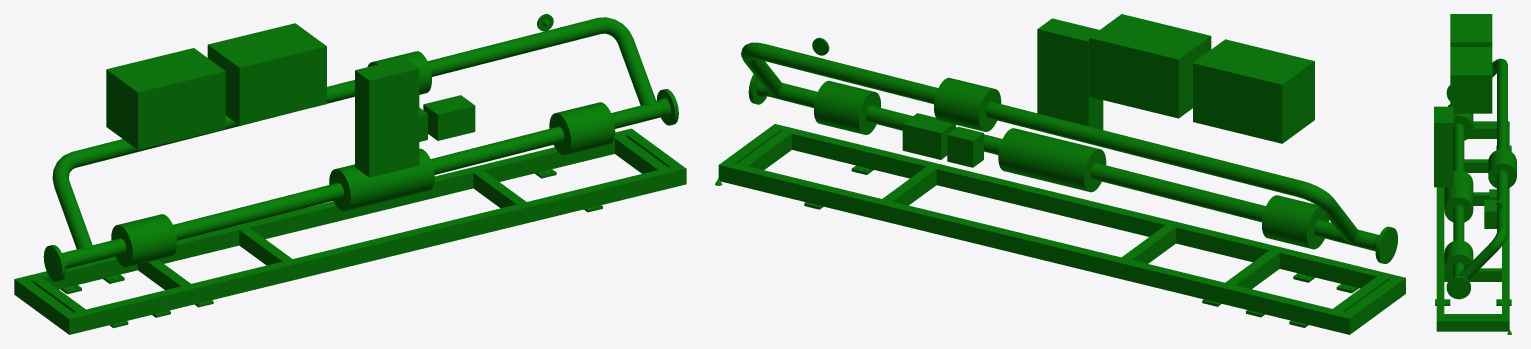
File: Image-1710907682838-2280650084368_45-JX50.fbx
3 renders of one model, left to right at view 1: azimuth 30°, elevation 25°; view 2: azimuth 150°, elevation 25°; view 3: azimuth 270°, elevation 25°, orthographic. The views are drawn at different scales.
Parts seen in each view (by area): view 1: BOX 12 of SUBEQUIPMENT /45-JX50/SKID-FRAME, BOX 1 of SUBEQUIPMENT /45-JX50/INSTR_CAGES, BOX 2 of SUBEQUIPMENT /45-JX50/INSTR_CAGES, BOX 13 of SUBEQUIPMENT /45-JX50/SKID-FRAME, CYLINDER 1 of SUBEQUIPMENT /45-JX50/METERING-LINE, BOX 3 of SUBEQUIPMENT /45-JX50/INSTR_CAGES, CYLINDER 2 of SUBEQUIPMENT /45-JX50/METERING-LINE, CYLINDER 7 of SUBEQUIPMENT /45-JX50/METERING-LINE, CYLINDER 6 of SUBEQUIPMENT /45-JX50/METERING-LINE, CYLINDER 5 of SUBEQUIPMENT /45-JX50/METERING-LINE, BOX 5 of SUBEQUIPMENT /45-JX50/INSTR_CAGES, BOX 7 of SUBEQUIPMENT /45-JX50/SKID-FRAME (+13 smaller); view 2: BOX 13 of SUBEQUIPMENT /45-JX50/SKID-FRAME, BOX 12 of SUBEQUIPMENT /45-JX50/SKID-FRAME, BOX 1 of SUBEQUIPMENT /45-JX50/INSTR_CAGES, BOX 2 of SUBEQUIPMENT /45-JX50/INSTR_CAGES, CYLINDER 2 of SUBEQUIPMENT /45-JX50/METERING-LINE, CYLINDER 1 of SUBEQUIPMENT /45-JX50/METERING-LINE, BOX 3 of SUBEQUIPMENT /45-JX50/INSTR_CAGES, CYLINDER 7 of SUBEQUIPMENT /45-JX50/METERING-LINE, CYLINDER 8 of SUBEQUIPMENT /45-JX50/METERING-LINE, CYLINDER 6 of SUBEQUIPMENT /45-JX50/METERING-LINE, CYLINDER 5 of SUBEQUIPMENT /45-JX50/METERING-LINE, BOX 5 of SUBEQUIPMENT /45-JX50/INSTR_CAGES (+12 smaller); view 3: BOX 2 of SUBEQUIPMENT /45-JX50/INSTR_CAGES, BOX 3 of SUBEQUIPMENT /45-JX50/INSTR_CAGES, CYLINDER 2 of SUBEQUIPMENT /45-JX50/METERING-LINE, BOX 1 of SUBEQUIPMENT /45-JX50/INSTR_CAGES, BOX 12 of SUBEQUIPMENT /45-JX50/SKID-FRAME, CYLINDER 7 of SUBEQUIPMENT /45-JX50/METERING-LINE, CYLINDER 1 of SUBEQUIPMENT /45-JX50/METERING-LINE, BOX 1 of SUBEQUIPMENT /45-JX50/SKID-FRAME, BOX 13 of SUBEQUIPMENT /45-JX50/SKID-FRAME, CYLINDER 8 of SUBEQUIPMENT /45-JX50/METERING-LINE, CYLINDER 6 of SUBEQUIPMENT /45-JX50/METERING-LINE, BOX 5 of SUBEQUIPMENT /45-JX50/SKID-FRAME (+12 smaller).
Boxes of the visible parts, x1,y1,x2,y2 form: BOX 12 of SUBEQUIPMENT /45-JX50/SKID-FRAME: [64, 167, 686, 334]; BOX 1 of SUBEQUIPMENT /45-JX50/INSTR_CAGES: [106, 48, 225, 149]; BOX 2 of SUBEQUIPMENT /45-JX50/INSTR_CAGES: [207, 23, 326, 125]; BOX 13 of SUBEQUIPMENT /45-JX50/SKID-FRAME: [14, 129, 636, 295]; CYLINDER 1 of SUBEQUIPMENT /45-JX50/METERING-LINE: [63, 101, 663, 268]; BOX 3 of SUBEQUIPMENT /45-JX50/INSTR_CAGES: [355, 58, 419, 177]; CYLINDER 2 of SUBEQUIPMENT /45-JX50/METERING-LINE: [72, 18, 603, 167]; CYLINDER 7 of SUBEQUIPMENT /45-JX50/METERING-LINE: [329, 148, 434, 211]; CYLINDER 6 of SUBEQUIPMENT /45-JX50/METERING-LINE: [549, 102, 615, 155]; CYLINDER 5 of SUBEQUIPMENT /45-JX50/METERING-LINE: [111, 214, 176, 267]; BOX 5 of SUBEQUIPMENT /45-JX50/INSTR_CAGES: [423, 95, 475, 140]; BOX 7 of SUBEQUIPMENT /45-JX50/SKID-FRAME: [14, 277, 79, 334]; BOX 13 of SUBEQUIPMENT /45-JX50/SKID-FRAME: [718, 161, 1355, 334]; BOX 12 of SUBEQUIPMENT /45-JX50/SKID-FRAME: [769, 124, 1405, 297]; BOX 1 of SUBEQUIPMENT /45-JX50/INSTR_CAGES: [1193, 39, 1314, 143]; BOX 2 of SUBEQUIPMENT /45-JX50/INSTR_CAGES: [1089, 14, 1211, 118]; CYLINDER 2 of SUBEQUIPMENT /45-JX50/METERING-LINE: [758, 44, 1301, 196]; CYLINDER 1 of SUBEQUIPMENT /45-JX50/METERING-LINE: [764, 83, 1378, 250]; BOX 3 of SUBEQUIPMENT /45-JX50/INSTR_CAGES: [1037, 18, 1103, 129]; CYLINDER 7 of SUBEQUIPMENT /45-JX50/METERING-LINE: [998, 128, 1106, 192]; CYLINDER 8 of SUBEQUIPMENT /45-JX50/METERING-LINE: [934, 77, 1001, 131]; CYLINDER 6 of SUBEQUIPMENT /45-JX50/METERING-LINE: [814, 80, 881, 134]; CYLINDER 5 of SUBEQUIPMENT /45-JX50/METERING-LINE: [1262, 195, 1328, 249]; BOX 5 of SUBEQUIPMENT /45-JX50/INSTR_CAGES: [902, 113, 955, 159]; BOX 2 of SUBEQUIPMENT /45-JX50/INSTR_CAGES: [1450, 47, 1492, 113]; BOX 3 of SUBEQUIPMENT /45-JX50/INSTR_CAGES: [1434, 106, 1453, 187]; CYLINDER 2 of SUBEQUIPMENT /45-JX50/METERING-LINE: [1497, 60, 1507, 231]; BOX 1 of SUBEQUIPMENT /45-JX50/INSTR_CAGES: [1450, 14, 1492, 46]; BOX 12 of SUBEQUIPMENT /45-JX50/SKID-FRAME: [1436, 187, 1444, 331]; CYLINDER 7 of SUBEQUIPMENT /45-JX50/METERING-LINE: [1444, 170, 1473, 222]; CYLINDER 1 of SUBEQUIPMENT /45-JX50/METERING-LINE: [1453, 123, 1464, 276]; BOX 1 of SUBEQUIPMENT /45-JX50/SKID-FRAME: [1436, 318, 1509, 331]; BOX 13 of SUBEQUIPMENT /45-JX50/SKID-FRAME: [1502, 121, 1509, 331]; CYLINDER 8 of SUBEQUIPMENT /45-JX50/METERING-LINE: [1488, 149, 1516, 188]; CYLINDER 6 of SUBEQUIPMENT /45-JX50/METERING-LINE: [1444, 240, 1473, 278]; BOX 5 of SUBEQUIPMENT /45-JX50/SKID-FRAME: [1436, 268, 1509, 281].
Bounding box in the file's own units: 4.96 × 0.864 × 1.67.
